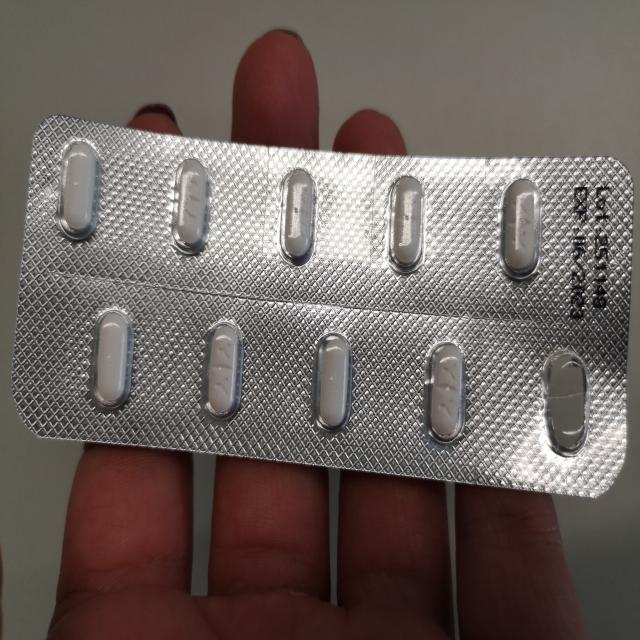Pill: (83, 301, 136, 416), (539, 347, 593, 459), (419, 338, 471, 452), (198, 314, 246, 428), (307, 326, 354, 441), (498, 171, 545, 285), (54, 133, 101, 243), (384, 172, 429, 276), (170, 152, 212, 261), (277, 164, 319, 268)
